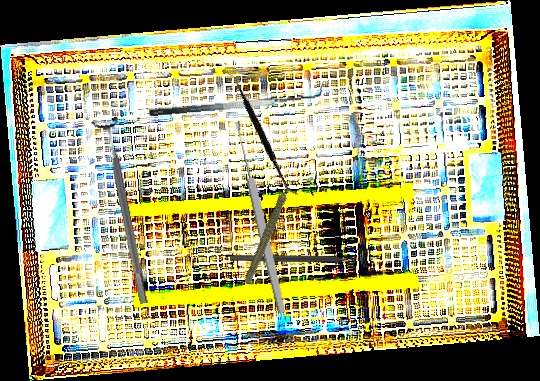Fixation Ring: (90, 116, 158, 307), (230, 247, 371, 269)
Handpiece: (224, 177, 317, 286)
Spatula Surgical: (189, 69, 336, 197), (147, 81, 326, 119)
Surgical Spoon: (232, 120, 288, 314)
